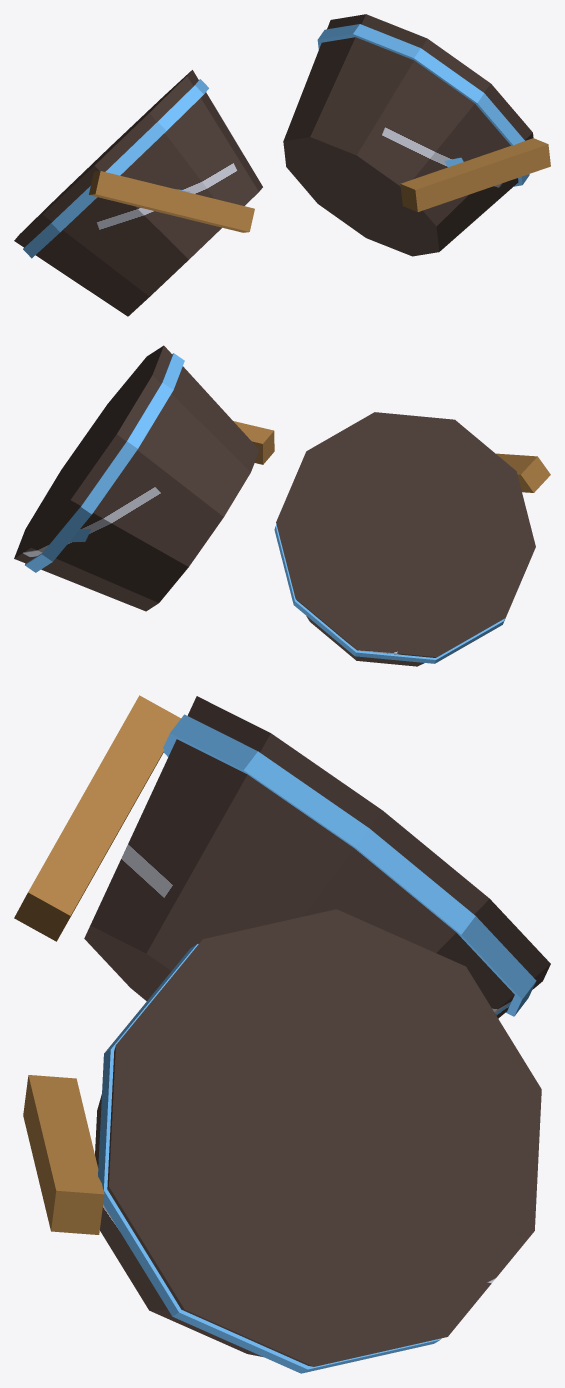
Rendered from conductor_cuffs_2.glb.
The picture shows the model from 3 angles, top to bottom: view 1: azimuth 30°, elevation 25°; view 2: azimuth 150°, elevation 25°; view 3: azimuth 270°, elevation 25°; orthographic projection. The views are drawn at different scales.
Visible parts, largest first — view 1: wear_conductor_cuffs_2_01_display, wear_conductor_cuffs_2_00_display, wear_conductor_cuffs_2_03_display, wear_conductor_cuffs_2_02_display; view 2: wear_conductor_cuffs_2_00_display, wear_conductor_cuffs_2_01_display, wear_conductor_cuffs_2_02_display, wear_conductor_cuffs_2_03_display; view 3: wear_conductor_cuffs_2_01_display, wear_conductor_cuffs_2_00_display, wear_conductor_cuffs_2_02_display, wear_conductor_cuffs_2_03_display.
Part boxes in pixels (<box>): wear_conductor_cuffs_2_01_display: <box>283,14,533,256</box>; wear_conductor_cuffs_2_00_display: <box>14,70,262,316</box>; wear_conductor_cuffs_2_03_display: <box>400,138,550,211</box>; wear_conductor_cuffs_2_02_display: <box>89,171,254,232</box>; wear_conductor_cuffs_2_00_display: <box>274,412,535,666</box>; wear_conductor_cuffs_2_01_display: <box>14,345,259,611</box>; wear_conductor_cuffs_2_02_display: <box>496,453,550,492</box>; wear_conductor_cuffs_2_03_display: <box>233,421,274,464</box>; wear_conductor_cuffs_2_01_display: <box>95,909,541,1373</box>; wear_conductor_cuffs_2_00_display: <box>84,696,550,1018</box>; wear_conductor_cuffs_2_02_display: <box>14,695,180,941</box>; wear_conductor_cuffs_2_03_display: <box>23,1075,104,1234</box>.
Bounding box in the file's own units: 1.15 × 0.5291 × 0.6058.
Materials: 4 (2 with a texture image).
